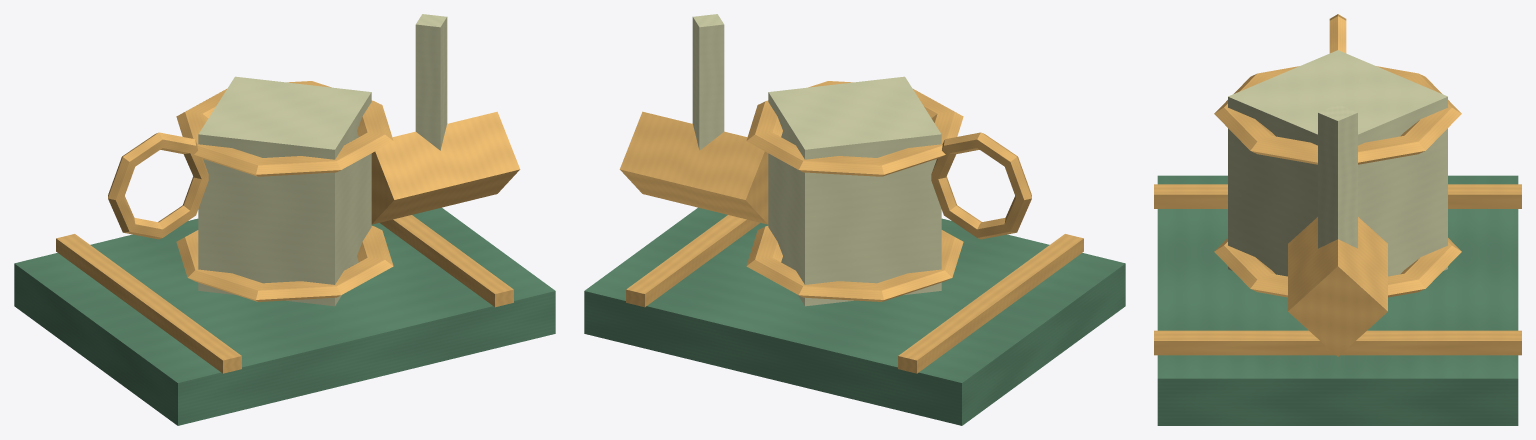
The model's file is atlas100-s005-a02.lod2.glb.
3 views of the same model, side by side, from view 1: azimuth 30°, elevation 25°; view 2: azimuth 150°, elevation 25°; view 3: azimuth 270°, elevation 25° (orthographic). The views are drawn at different scales.
Parts seen in each view (by area): view 1: atlas100-s005-a02:part-000, atlas100-s005-a02:part-003, atlas100-s005-a02:part-007, atlas100-s005-a02:part-001, atlas100-s005-a02:part-005, atlas100-s005-a02:part-004, atlas100-s005-a02:part-009, atlas100-s005-a02:part-008, atlas100-s005-a02:part-002; view 2: atlas100-s005-a02:part-000, atlas100-s005-a02:part-003, atlas100-s005-a02:part-007, atlas100-s005-a02:part-001, atlas100-s005-a02:part-005, atlas100-s005-a02:part-004, atlas100-s005-a02:part-009, atlas100-s005-a02:part-008, atlas100-s005-a02:part-002; view 3: atlas100-s005-a02:part-000, atlas100-s005-a02:part-003, atlas100-s005-a02:part-007, atlas100-s005-a02:part-002, atlas100-s005-a02:part-005, atlas100-s005-a02:part-008, atlas100-s005-a02:part-004, atlas100-s005-a02:part-001, atlas100-s005-a02:part-009.
Boxes of the visible parts, <box> form: atlas100-s005-a02:part-000: <box>14,207,555,425</box>; atlas100-s005-a02:part-003: <box>198,76,371,306</box>; atlas100-s005-a02:part-007: <box>371,111,520,224</box>; atlas100-s005-a02:part-001: <box>56,234,241,373</box>; atlas100-s005-a02:part-005: <box>176,81,393,176</box>; atlas100-s005-a02:part-004: <box>176,226,393,301</box>; atlas100-s005-a02:part-009: <box>108,132,208,239</box>; atlas100-s005-a02:part-008: <box>415,14,447,150</box>; atlas100-s005-a02:part-002: <box>380,215,513,307</box>; atlas100-s005-a02:part-000: <box>584,207,1125,425</box>; atlas100-s005-a02:part-003: <box>768,76,941,306</box>; atlas100-s005-a02:part-007: <box>619,111,768,224</box>; atlas100-s005-a02:part-001: <box>898,234,1083,373</box>; atlas100-s005-a02:part-005: <box>746,81,963,176</box>; atlas100-s005-a02:part-004: <box>746,226,963,301</box>; atlas100-s005-a02:part-009: <box>931,132,1031,239</box>; atlas100-s005-a02:part-008: <box>692,14,724,150</box>; atlas100-s005-a02:part-002: <box>626,215,759,307</box>; atlas100-s005-a02:part-000: <box>1157,175,1518,425</box>; atlas100-s005-a02:part-003: <box>1228,50,1447,276</box>; atlas100-s005-a02:part-007: <box>1288,217,1387,356</box>; atlas100-s005-a02:part-002: <box>1154,330,1521,355</box>; atlas100-s005-a02:part-005: <box>1214,66,1461,164</box>; atlas100-s005-a02:part-008: <box>1318,104,1357,248</box>; atlas100-s005-a02:part-004: <box>1214,238,1461,297</box>; atlas100-s005-a02:part-001: <box>1154,184,1521,208</box>; atlas100-s005-a02:part-009: <box>1329,14,1346,53</box>.
Size of the model in its own units: 2.55 by 1.6 by 1.84.
Materials: 3 (3 with a texture image).
